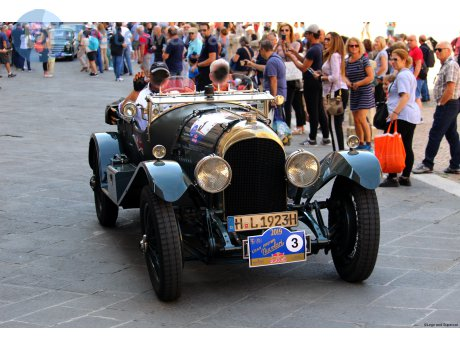License Plates: (238, 211, 294, 226)
